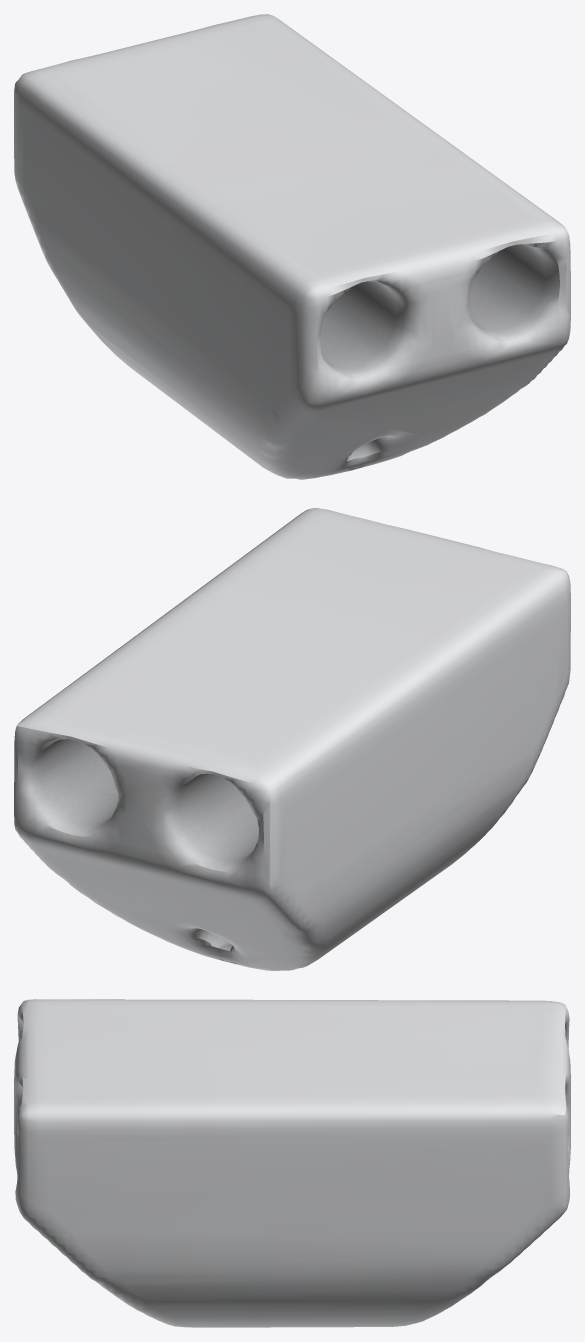
File: right_finger1_middle.obj
3 renders of one model, top to bottom at view 1: azimuth 30°, elevation 25°; view 2: azimuth 150°, elevation 25°; view 3: azimuth 270°, elevation 25°, orthographic. The views are drawn at different scales.
Visible parts, largest first — view 1: right_finger1_middle; view 2: right_finger1_middle; view 3: right_finger1_middle.
Part boxes in pixels (<box>): right_finger1_middle: <box>14,14,570,479</box>; right_finger1_middle: <box>14,508,570,970</box>; right_finger1_middle: <box>14,999,570,1327</box>.
Size of the model in its own units: 0.0103 by 0.0103 by 0.0201.
Materials: 1 (1 with a texture image).
